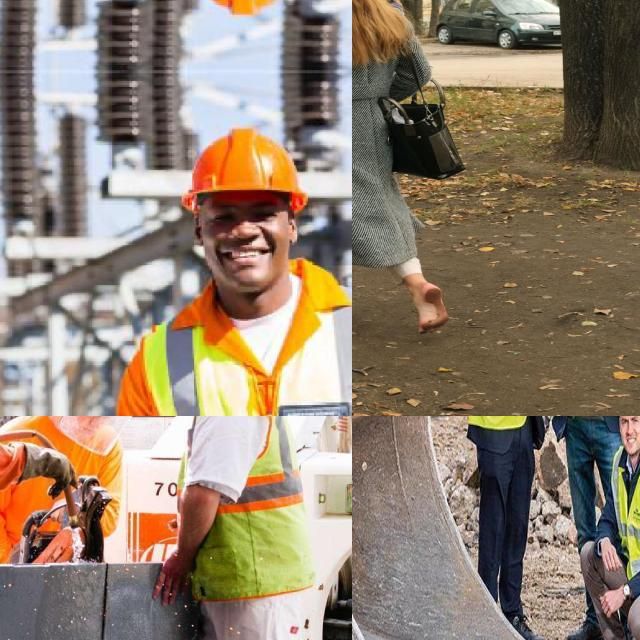Barefoots: (418, 283, 449, 334)
No_Ear-Protection: (194, 214, 204, 247), (289, 215, 298, 242)
No_Glasses: (205, 203, 283, 225)
face_mask: (61, 416, 137, 458)
face_nomask: (204, 223, 290, 290), (615, 416, 640, 457)
hand_glove: (25, 436, 82, 516)
hand_noglove: (137, 544, 205, 610), (588, 539, 628, 577), (599, 583, 625, 635)
head_helmet: (182, 128, 307, 212)
person: (126, 416, 352, 640), (0, 416, 135, 590), (465, 416, 547, 640), (578, 416, 640, 640), (554, 416, 638, 533)
shoes: (563, 608, 608, 640)
vest: (174, 416, 316, 610), (611, 444, 640, 586)
